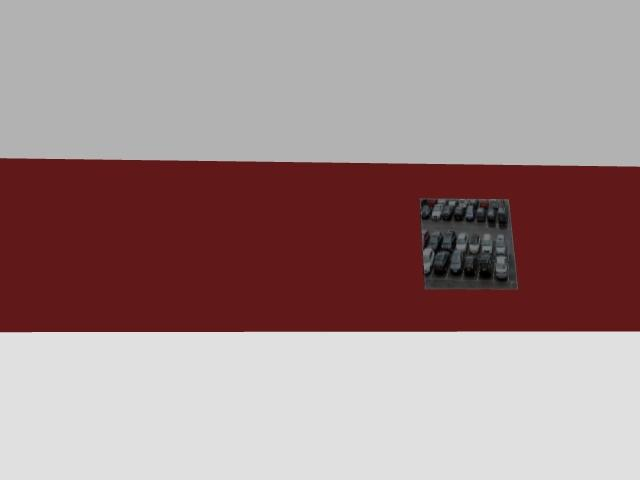vehicle: (433, 251, 450, 273), (494, 255, 508, 279), (449, 250, 463, 274), (441, 230, 456, 252), (427, 231, 442, 251), (479, 254, 492, 276), (423, 248, 434, 274), (464, 255, 477, 275), (456, 232, 468, 252), (497, 204, 508, 225), (495, 234, 506, 254), (468, 234, 479, 254), (481, 234, 492, 253), (431, 203, 443, 220), (442, 204, 454, 220), (487, 205, 496, 223), (454, 205, 464, 220), (465, 206, 474, 220), (476, 207, 485, 221), (421, 204, 430, 218), (423, 230, 429, 248), (489, 199, 499, 209), (467, 199, 478, 208), (457, 199, 467, 208), (446, 199, 457, 207), (479, 199, 488, 208), (426, 198, 436, 206), (420, 199, 427, 206), (436, 199, 445, 203)
